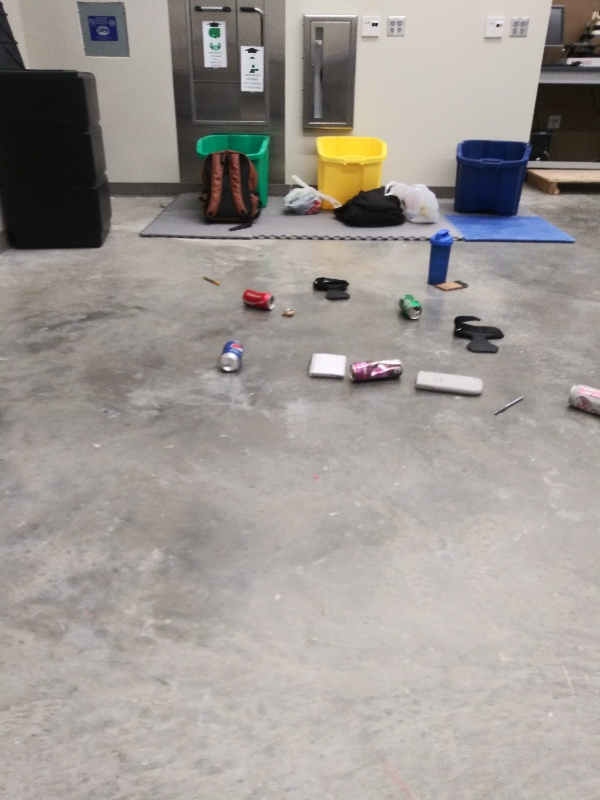can: (347, 355, 410, 386), (566, 380, 600, 418), (213, 338, 248, 374), (238, 283, 276, 313), (395, 289, 425, 324)
